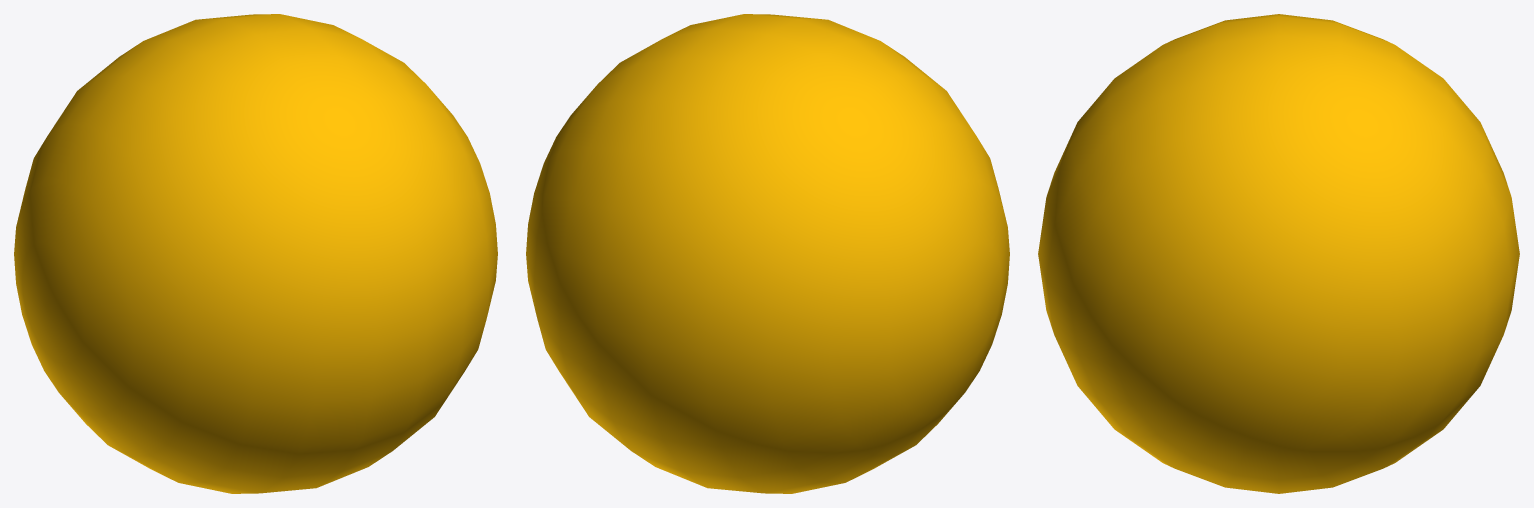
The picture shows the model from 3 angles, left to right: view 1: azimuth 30°, elevation 25°; view 2: azimuth 150°, elevation 25°; view 3: azimuth 270°, elevation 25°; orthographic projection.
Parts seen in each view (by area): view 1: SketchUp; view 2: SketchUp; view 3: SketchUp.
Part boxes in pixels (left/top/right/bottom): SketchUp: left=14, top=14, right=497, bottom=493; SketchUp: left=526, top=14, right=1009, bottom=493; SketchUp: left=1038, top=14, right=1519, bottom=493.
Size of the model in its own units: 161 by 161 by 161.
